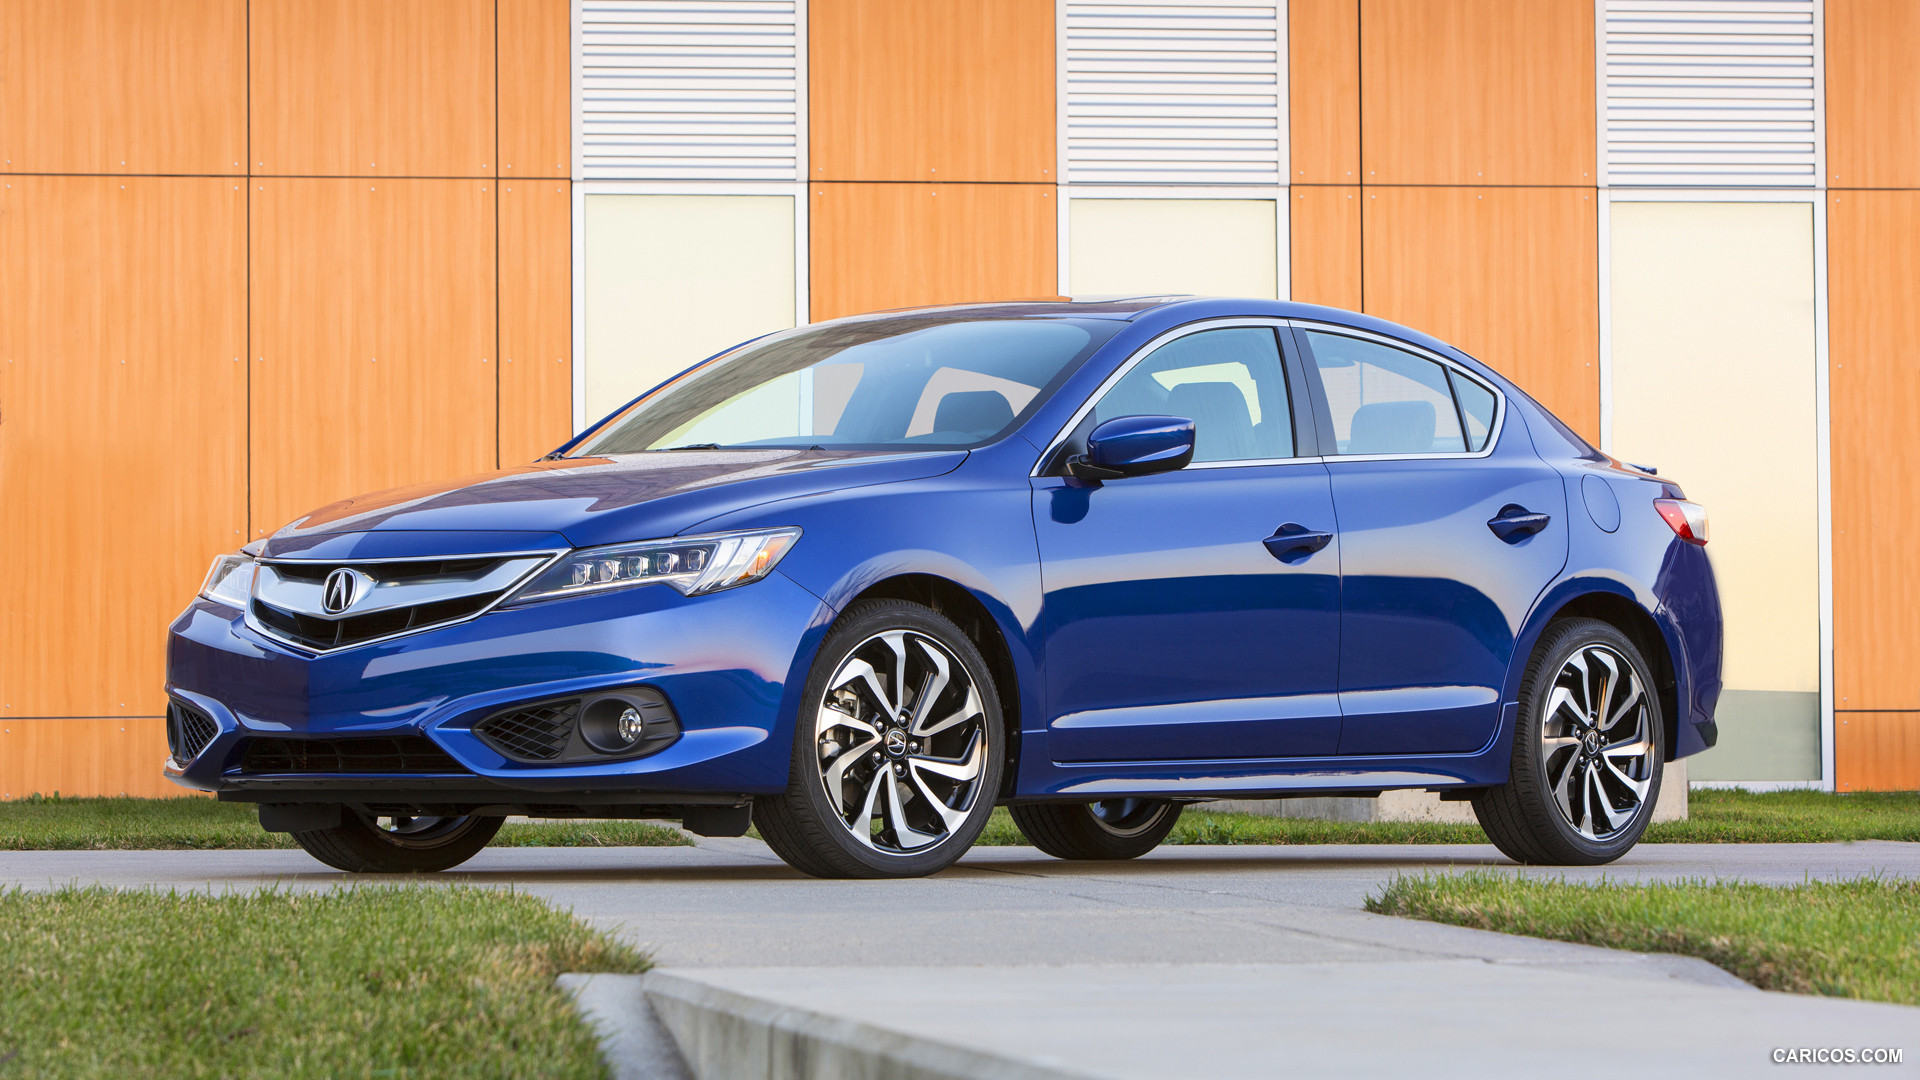Fog Lamp & Scope: (473, 686, 679, 767)
Front: (160, 456, 928, 789)
Front Bumper: (161, 655, 800, 787)
Grill: (247, 553, 527, 653)
Headlight: (512, 527, 806, 603)
